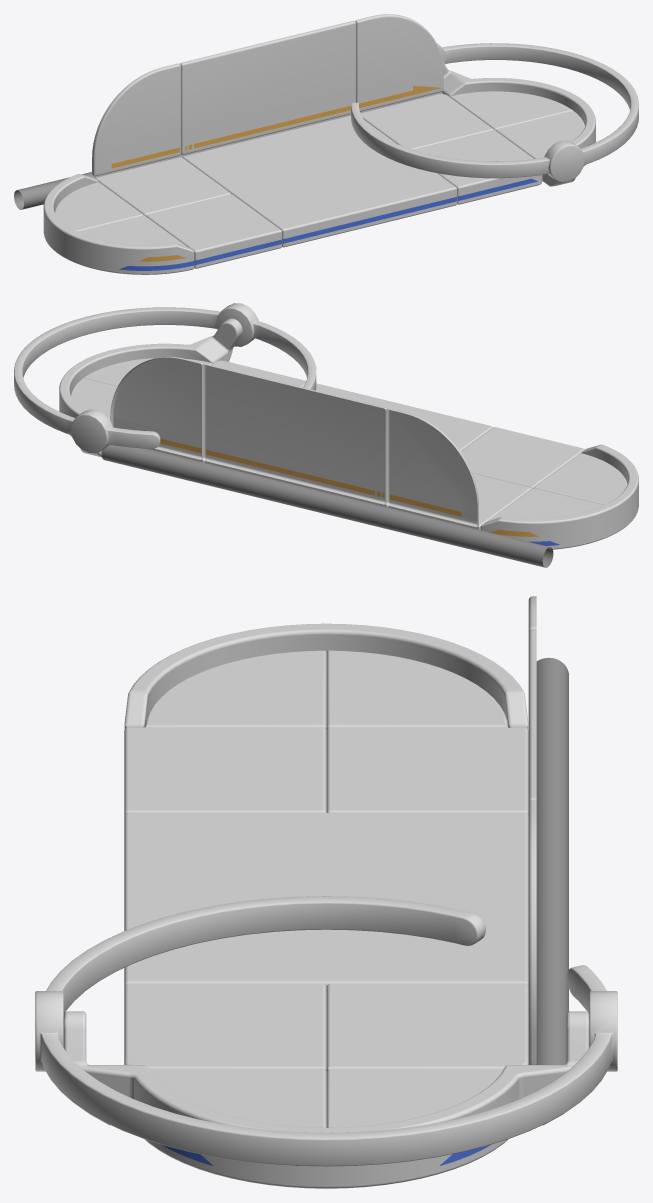
Rendered from lab_teleport.fbx.
3 views of the same model, one above another, from view 1: azimuth 30°, elevation 25°; view 2: azimuth 150°, elevation 25°; view 3: azimuth 270°, elevation 25° (orthographic). The views are drawn at different scales.
Visible parts, largest first — view 1: floor, panel.001, frame, panel.000, panel.002, start_border, start_border.001, tube; view 2: panel.001, floor, tube, frame, panel.000, panel.002, start_border, start_border.001; view 3: floor, frame, start_border.001, tube, start_border, panel.002, panel.001.
Boxes of the visible parts, x1,y1,x2,y2 form: floor: (54,91,584,268); panel.001: (180,20,355,154); frame: (351,43,638,182); panel.000: (92,63,180,176); panel.002: (355,14,443,111); start_border: (43,174,194,274); start_border.001: (442,62,595,186); tube: (14,92,442,209); panel.001: (202,363,386,504); floor: (70,358,627,529); tube: (101,444,553,567); frame: (14,303,316,453); panel.000: (385,408,478,527); panel.002: (110,356,202,459); start_border: (480,444,638,549); start_border.001: (59,318,242,457); floor: (124,650,528,1127); frame: (35,896,617,1166); start_border.001: (63,1011,589,1188); tube: (528,657,568,1064); start_border: (124,623,528,729); panel.002: (528,800,536,1064); panel.001: (528,629,536,803).
Size of the model in its own units: 321 by 60 by 144.
